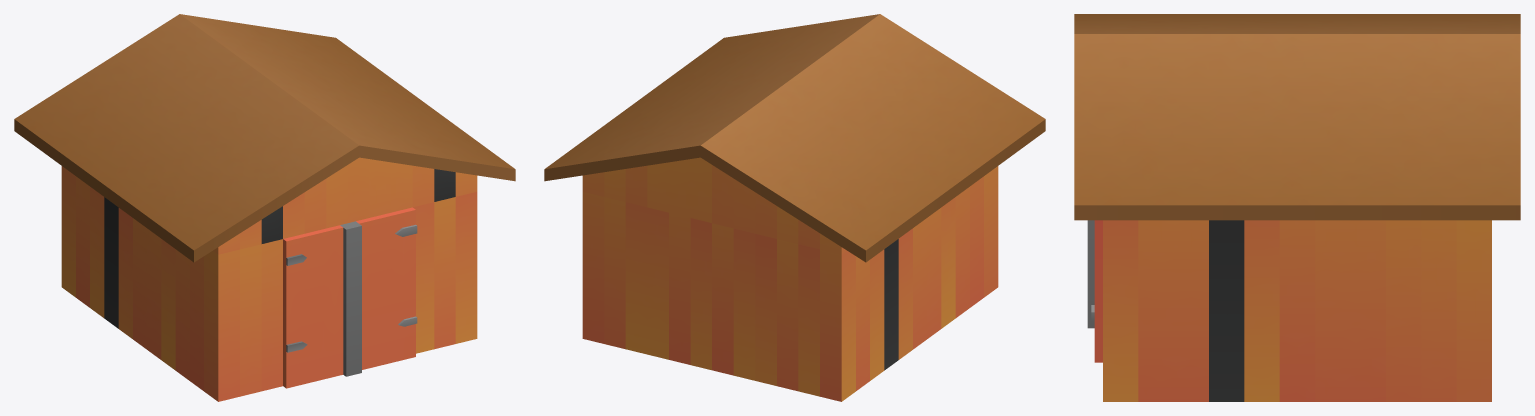
The model's file is Harbor2.fbx.
The picture shows the model from 3 angles, left to right: view 1: azimuth 30°, elevation 25°; view 2: azimuth 150°, elevation 25°; view 3: azimuth 270°, elevation 25°; orthographic projection. The views are drawn at different scales.
Visible parts, largest first — view 1: Harbor2; view 2: Harbor2; view 3: Harbor2.
Part boxes in pixels (x1,y1,x2,y2): Harbor2: (14,14,515,401); Harbor2: (544,14,1045,401); Harbor2: (1074,14,1520,401).
Size of the model in its own units: 560 by 541 by 388.
